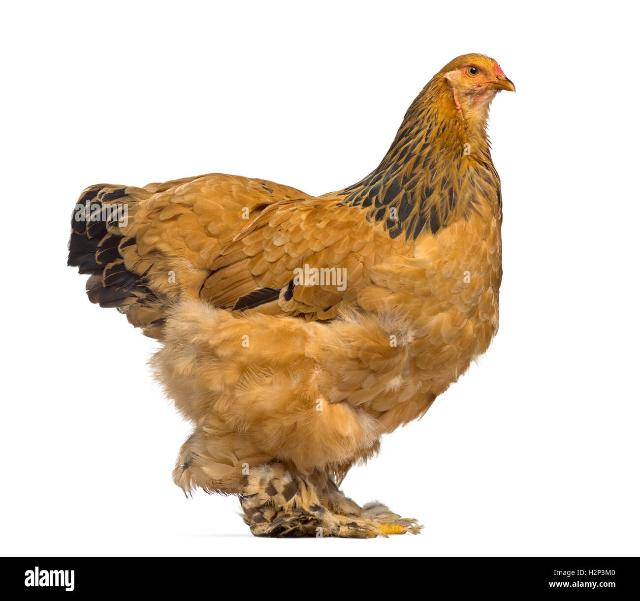Chicken: (68, 51, 516, 537)
